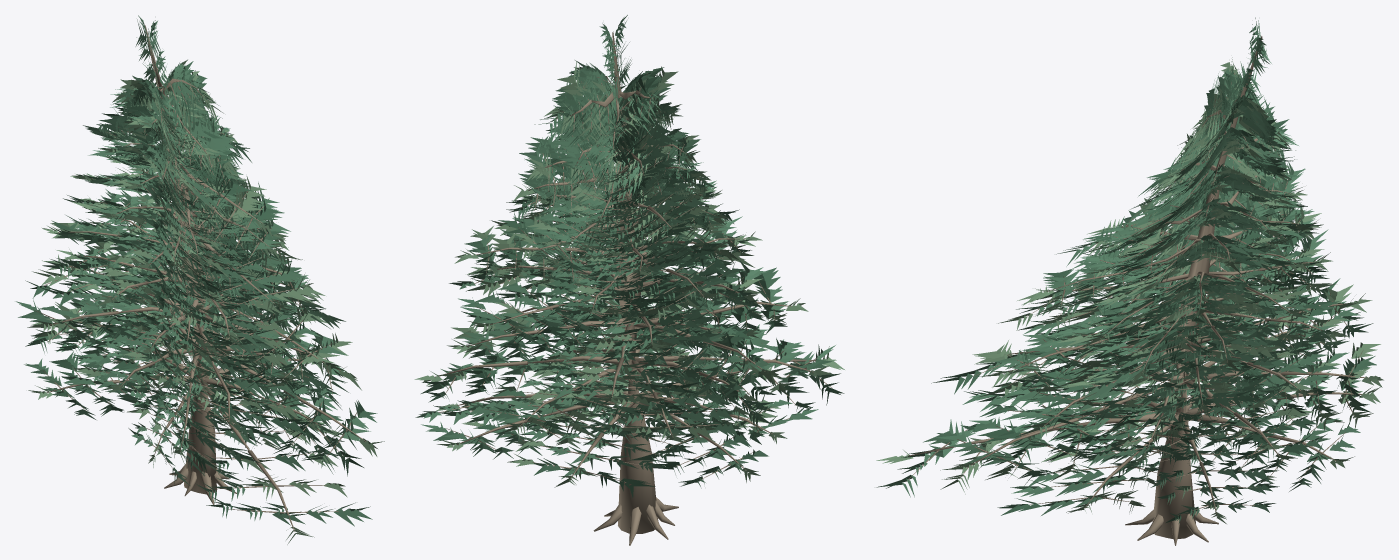
File: cedar_4.glb
The picture shows the model from 3 angles, left to right: view 1: azimuth 30°, elevation 25°; view 2: azimuth 150°, elevation 25°; view 3: azimuth 270°, elevation 25°; orthographic projection. The views are drawn at different scales.
Visible parts, largest first — view 1: tree_conifer_ConiferLeaf, tree_conifer_ConiferLeafLight, tree_conifer_ConiferLeafDark, tree_conifer_ConiferBark; view 2: tree_conifer_ConiferLeaf, tree_conifer_ConiferLeafLight, tree_conifer_ConiferLeafDark, tree_conifer_ConiferBark; view 3: tree_conifer_ConiferLeaf, tree_conifer_ConiferLeafLight, tree_conifer_ConiferLeafDark, tree_conifer_ConiferBark.
Part boxes in pixels (x1,y1,x2,y2): tree_conifer_ConiferLeaf: [15, 15, 372, 526]; tree_conifer_ConiferLeafLight: [27, 59, 384, 544]; tree_conifer_ConiferLeafDark: [25, 61, 377, 518]; tree_conifer_ConiferBark: [33, 25, 366, 531]; tree_conifer_ConiferLeaf: [415, 15, 840, 488]; tree_conifer_ConiferLeafLight: [414, 61, 844, 487]; tree_conifer_ConiferLeafDark: [421, 60, 844, 497]; tree_conifer_ConiferBark: [435, 31, 831, 545]; tree_conifer_ConiferLeaf: [876, 17, 1373, 519]; tree_conifer_ConiferLeafLight: [876, 57, 1383, 523]; tree_conifer_ConiferLeafDark: [931, 61, 1376, 523]; tree_conifer_ConiferBark: [906, 36, 1368, 545].
Size of the model in its own units: 8.7 by 13.15 by 12.11.
